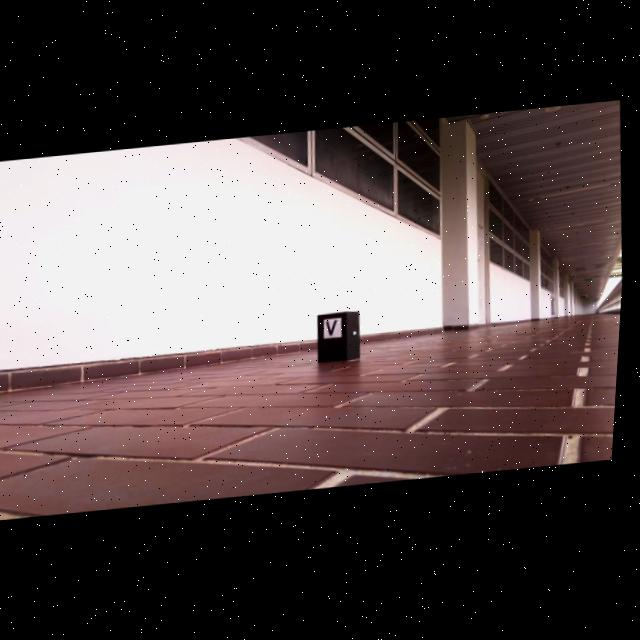V: (331, 322, 341, 338)
